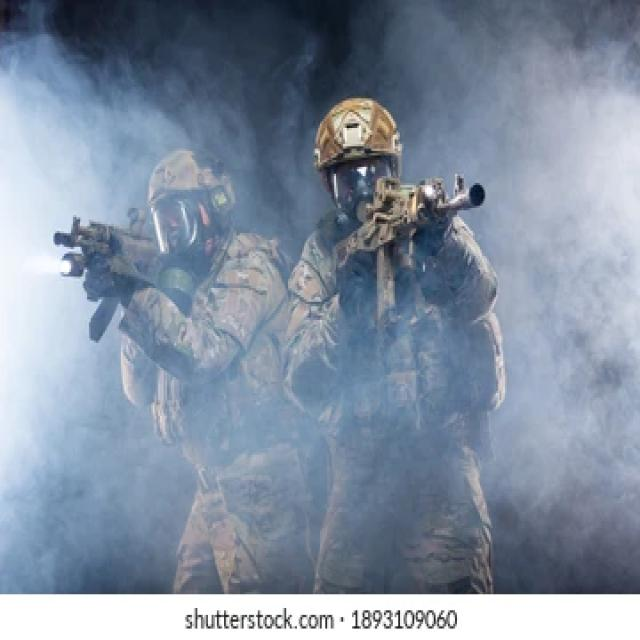soldier: (283, 97, 531, 594), (43, 71, 271, 596)
